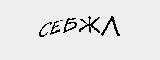Б: (61, 15, 77, 33)
Е: (49, 18, 63, 36)
Ж: (77, 15, 102, 35)
Л: (101, 15, 121, 37)
С: (38, 18, 51, 40)
